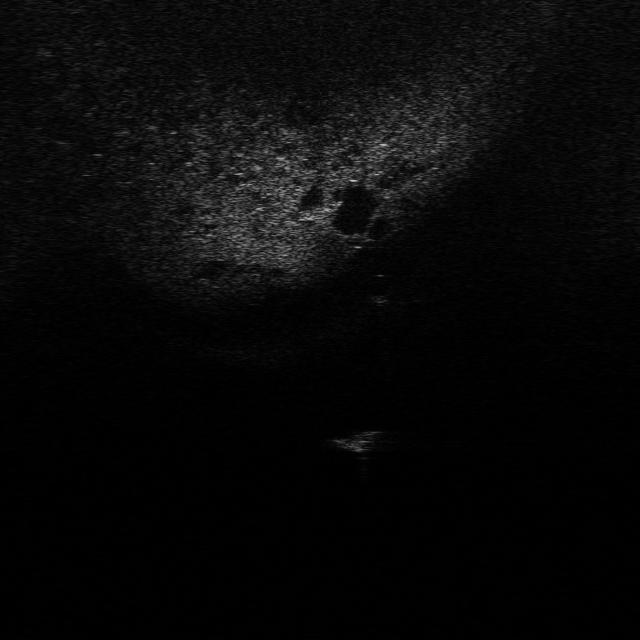ball: (362, 276, 396, 304)
cube: (362, 271, 398, 305)
